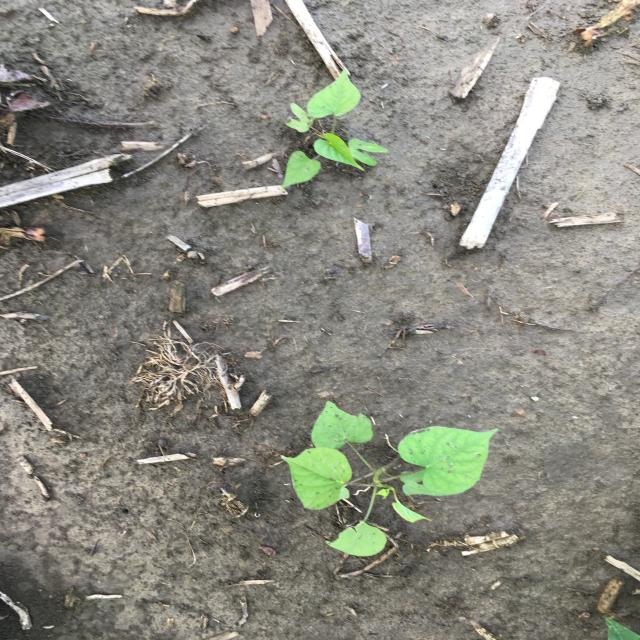MorningGlory: (278, 399, 502, 558), (278, 67, 393, 190)
